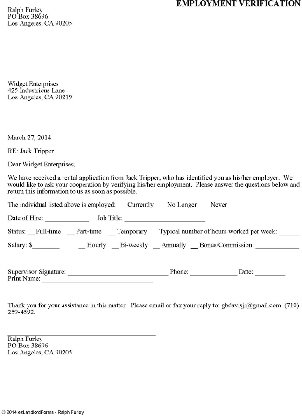textline: (41, 275, 154, 286), (66, 267, 168, 277), (122, 214, 207, 225), (190, 268, 238, 277), (255, 242, 301, 251), (43, 215, 90, 222), (254, 268, 285, 278), (33, 242, 63, 250), (279, 227, 300, 238), (156, 201, 168, 210), (199, 201, 210, 209), (76, 243, 86, 251), (110, 242, 120, 250), (151, 243, 161, 251), (188, 242, 198, 250), (65, 229, 75, 236), (108, 229, 116, 237), (118, 202, 125, 210), (28, 228, 34, 237)
